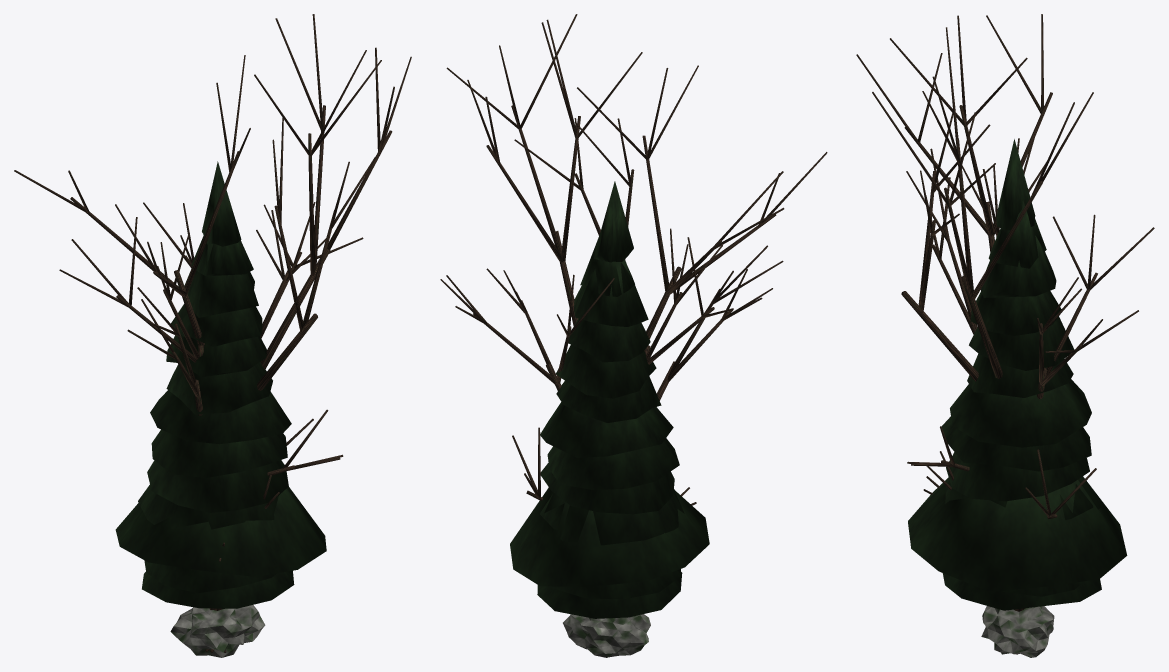
Rendered from Trees.fbx.
3 renders of one model, left to right at view 1: azimuth 30°, elevation 25°; view 2: azimuth 150°, elevation 25°; view 3: azimuth 270°, elevation 25°, orthographic. The views are drawn at different scales.
Parts seen in each view (by area): view 1: Tree_Pine_B, Tree_Dead_B, Tree_Dead_A, Rock_A, Tree_Pine_C, Tree_Pine_A; view 2: Tree_Pine_B, Tree_Dead_B, Tree_Dead_A, Rock_A, Tree_Pine_C, Tree_Pine_A; view 3: Tree_Pine_B, Tree_Dead_B, Tree_Dead_A, Rock_A, Tree_Pine_C, Tree_Pine_A.
Part boxes in pixels (left/top/right/bottom): Tree_Pine_B: left=115, top=161, right=326, bottom=610; Tree_Dead_B: left=14, top=14, right=411, bottom=476; Tree_Dead_A: left=59, top=202, right=363, bottom=561; Rock_A: left=170, top=605, right=265, bottom=657; Tree_Pine_C: left=142, top=570, right=294, bottom=608; Tree_Pine_A: left=144, top=560, right=276, bottom=593; Tree_Pine_B: left=510, top=181, right=709, bottom=586; Tree_Dead_B: left=446, top=14, right=827, bottom=500; Tree_Dead_A: left=440, top=228, right=783, bottom=505; Rock_A: left=563, top=614, right=650, bottom=657; Tree_Pine_C: left=537, top=572, right=682, bottom=618; Tree_Pine_A: left=540, top=494, right=680, bottom=598; Tree_Pine_B: left=908, top=139, right=1127, bottom=611; Tree_Dead_B: left=856, top=14, right=1096, bottom=518; Tree_Dead_A: left=906, top=138, right=1154, bottom=494; Rock_A: left=981, top=606, right=1054, bottom=657; Tree_Pine_C: left=942, top=573, right=1101, bottom=610; Tree_Pine_A: left=1002, top=484, right=1093, bottom=596.
Bounding box in the file's own units: 13.36 × 20.64 × 8.86.
3 materials, 3 textured.
